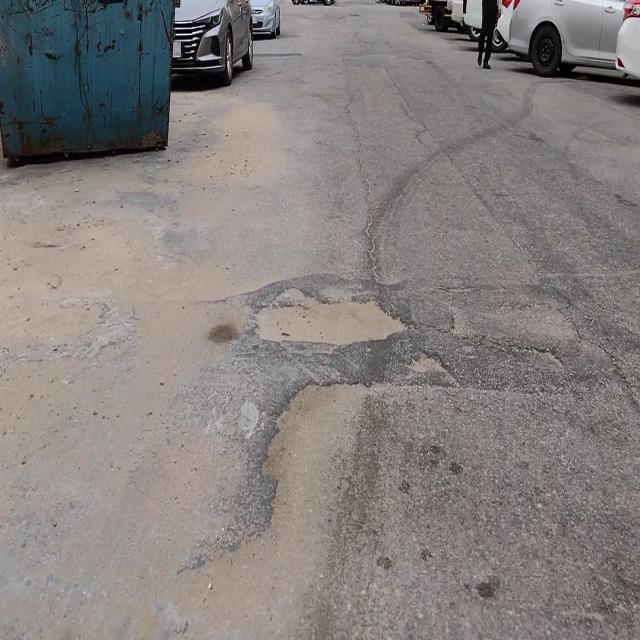Pothole: (254, 281, 410, 345)
